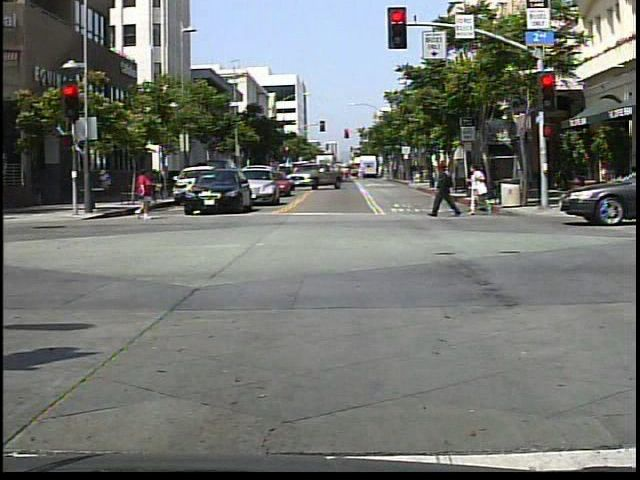person: (433, 158, 464, 221), (126, 165, 158, 225), (466, 157, 492, 221)
